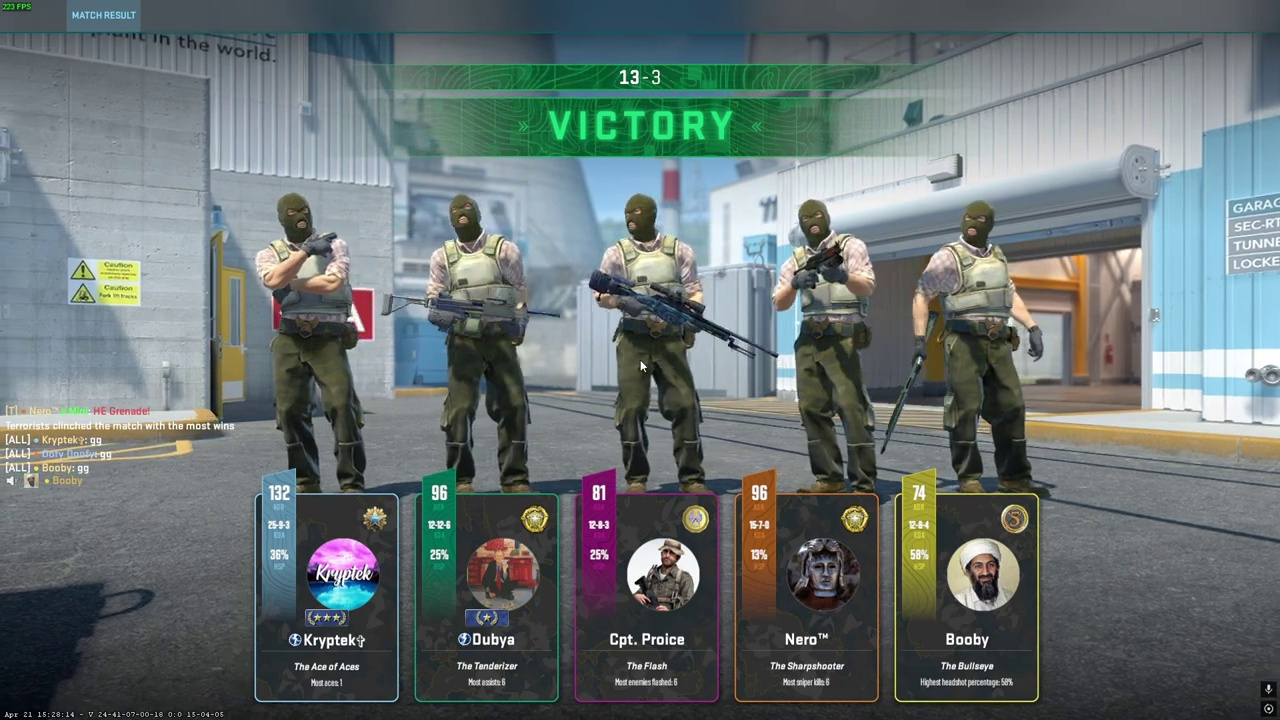Terrorist: (603, 194, 709, 491), (431, 195, 535, 490), (262, 194, 364, 492), (927, 202, 1032, 491), (784, 199, 878, 491)
